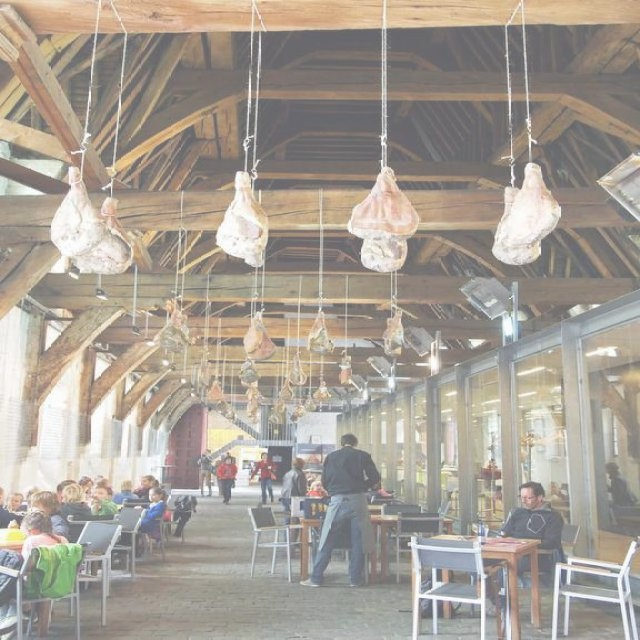pessoa: (299, 432, 380, 587), (486, 480, 564, 617), (276, 456, 310, 560), (5, 491, 70, 538), (18, 510, 72, 561), (54, 482, 94, 544), (248, 451, 278, 506), (604, 462, 638, 507), (136, 486, 166, 534), (214, 454, 238, 504), (86, 482, 120, 516), (58, 484, 92, 516), (1, 490, 25, 530), (196, 446, 212, 498), (78, 471, 114, 494), (111, 478, 140, 505), (483, 458, 501, 498), (212, 452, 227, 497), (133, 474, 160, 498), (222, 454, 239, 490), (8, 492, 29, 516), (550, 480, 571, 504), (304, 479, 330, 497), (246, 458, 262, 486), (363, 478, 387, 490), (26, 486, 40, 504)
